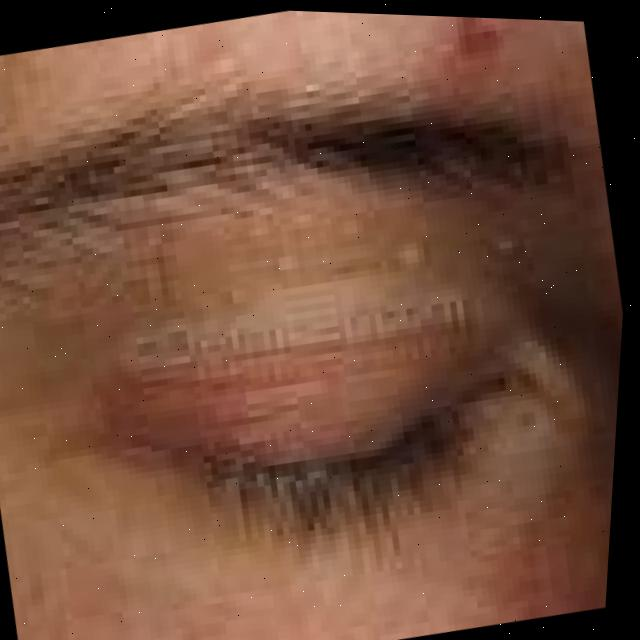Melasma: (427, 16, 581, 139)
